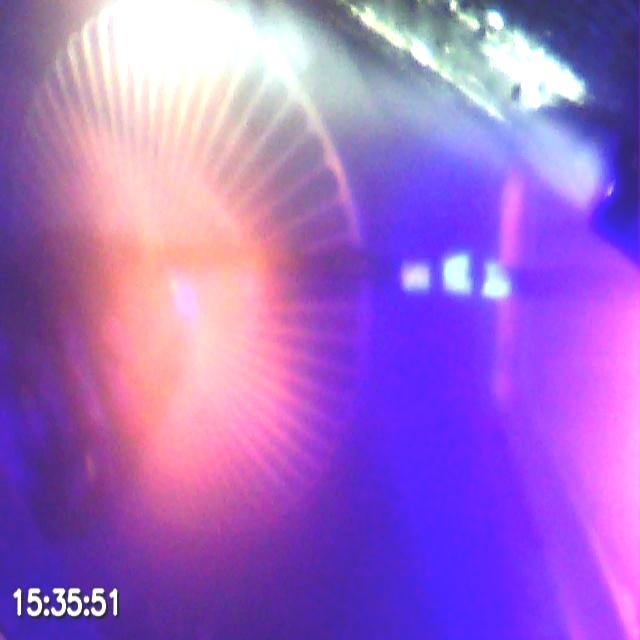white-dots: (400, 252, 513, 303)
